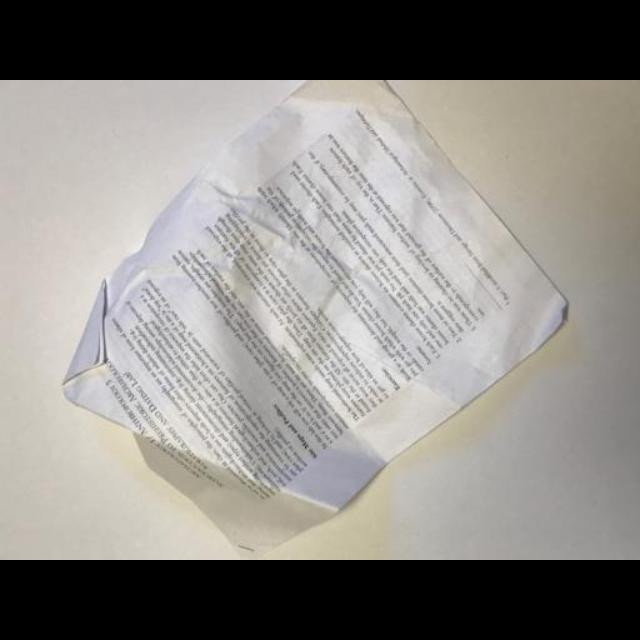papel: (61, 80, 566, 552)
